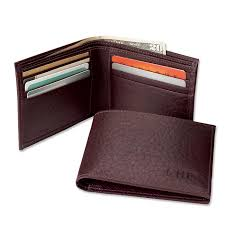monedero: (15, 36, 200, 150), (76, 110, 216, 204)
